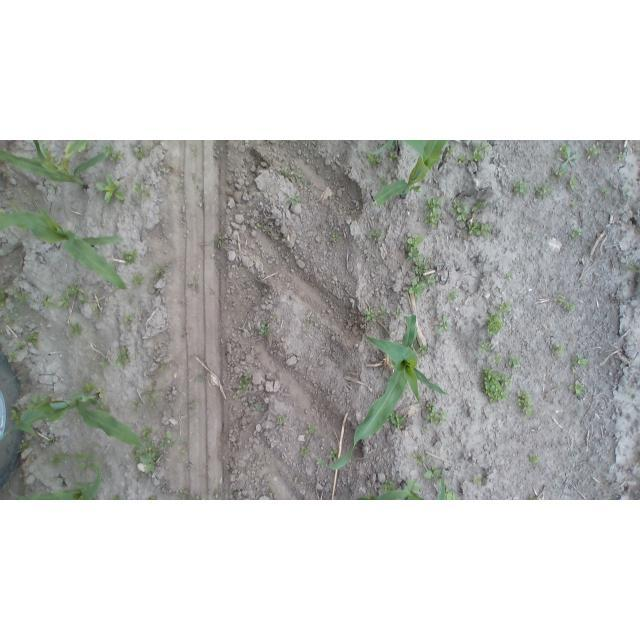Maize: (312, 315, 448, 471), (0, 196, 128, 288), (2, 391, 150, 469), (0, 141, 110, 192), (374, 141, 449, 204), (10, 464, 103, 501), (354, 476, 424, 500), (363, 141, 394, 156), (438, 466, 446, 500)
Weeds: (405, 235, 436, 296), (482, 366, 511, 402), (95, 177, 125, 203), (423, 194, 444, 227), (135, 445, 158, 475), (422, 400, 447, 422), (143, 383, 161, 410), (132, 183, 153, 206), (558, 144, 578, 168), (115, 346, 134, 371), (257, 315, 279, 335), (517, 390, 532, 417), (554, 295, 577, 312), (452, 200, 469, 223), (468, 221, 492, 237), (472, 141, 491, 161), (104, 145, 125, 163), (486, 314, 504, 335), (12, 288, 34, 305), (387, 414, 410, 430), (73, 452, 92, 470), (513, 178, 531, 196), (124, 247, 141, 266), (572, 354, 591, 371), (434, 314, 450, 334), (368, 307, 389, 322), (67, 285, 85, 302), (286, 163, 302, 182), (236, 375, 253, 392), (534, 181, 552, 197), (496, 300, 516, 314), (586, 144, 602, 161), (570, 380, 586, 396), (50, 451, 67, 466), (70, 321, 86, 336), (162, 430, 177, 446), (476, 340, 492, 355), (528, 453, 545, 467), (133, 269, 146, 287), (133, 146, 148, 161), (142, 427, 157, 442), (425, 465, 440, 480), (445, 288, 460, 302), (43, 294, 56, 310), (551, 166, 567, 179), (1, 288, 10, 311), (566, 173, 578, 190), (57, 293, 70, 308), (27, 332, 40, 347), (383, 480, 398, 493), (456, 152, 469, 167), (472, 200, 487, 213), (551, 343, 564, 357), (507, 354, 520, 368), (213, 232, 223, 250), (570, 227, 582, 242), (367, 229, 383, 240), (98, 359, 110, 373), (368, 154, 382, 166), (5, 352, 20, 363), (17, 443, 32, 454), (122, 313, 134, 326), (444, 145, 456, 158), (96, 387, 108, 399), (194, 373, 207, 384), (412, 452, 424, 463), (298, 445, 310, 456), (619, 187, 629, 200), (275, 416, 289, 425), (473, 474, 484, 485), (378, 176, 390, 186), (8, 411, 20, 421), (628, 264, 640, 274), (328, 448, 337, 461), (187, 399, 197, 409), (155, 268, 166, 277), (131, 400, 142, 409), (303, 424, 314, 433), (93, 303, 100, 317), (304, 315, 314, 324), (292, 475, 302, 484), (232, 490, 241, 500), (16, 343, 26, 352), (84, 384, 94, 393), (447, 492, 458, 500), (496, 354, 505, 363), (98, 402, 108, 410), (365, 491, 375, 499), (505, 271, 515, 279), (393, 308, 403, 316), (289, 196, 299, 204), (419, 345, 429, 353), (617, 151, 625, 160), (109, 495, 123, 500), (390, 151, 400, 158), (330, 232, 338, 240), (601, 187, 609, 195), (253, 399, 259, 409), (570, 199, 578, 206), (147, 496, 159, 500), (303, 182, 310, 188), (282, 169, 288, 176), (254, 224, 260, 229)
